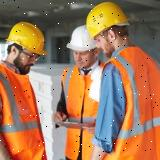Helmet: (85, 2, 130, 41), (5, 22, 49, 56), (66, 24, 107, 51)
Vest: (101, 44, 160, 160), (61, 58, 111, 160), (0, 61, 48, 160)
